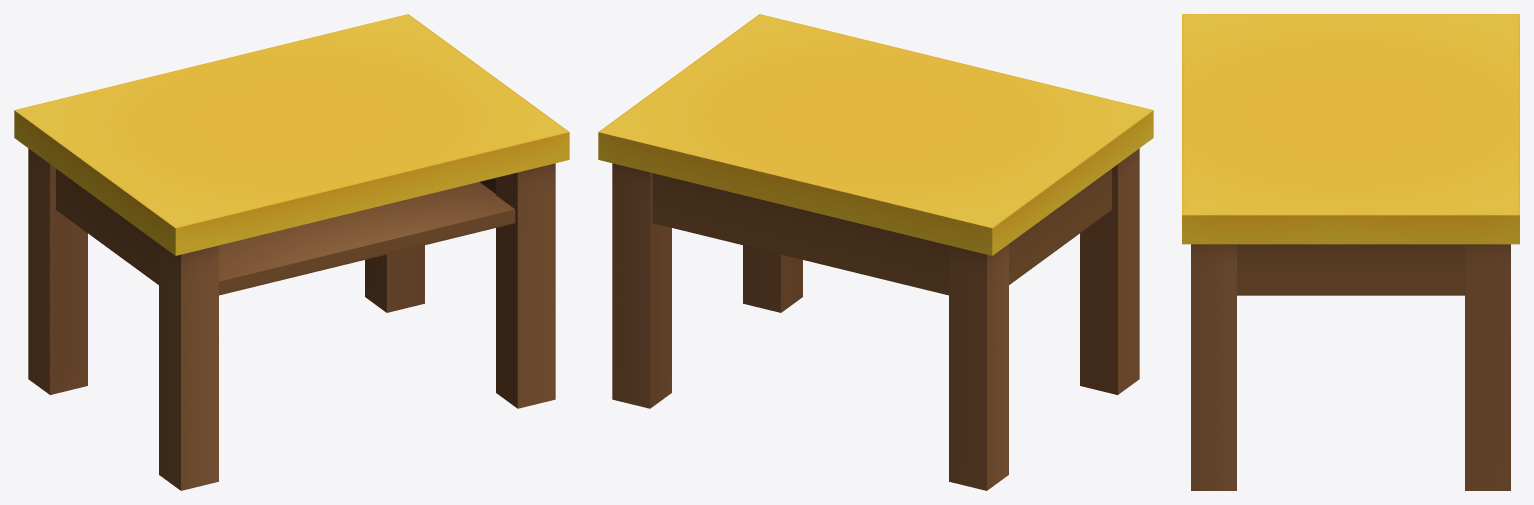
Rendered from ENV2010032.fbx.
The picture shows the model from 3 angles, left to right: view 1: azimuth 30°, elevation 25°; view 2: azimuth 150°, elevation 25°; view 3: azimuth 270°, elevation 25°; orthographic projection. The views are drawn at different scales.
Parts seen in each view (by area): view 1: smENV2010032; view 2: smENV2010032; view 3: smENV2010032.
Part boxes in pixels (left/top/right/bottom): smENV2010032: left=14, top=14, right=569, bottom=490; smENV2010032: left=598, top=14, right=1153, bottom=490; smENV2010032: left=1182, top=14, right=1519, bottom=490.
Size of the model in its own units: 59.98 by 38.99 by 42.53.
Materials: 1 (1 with a texture image).
